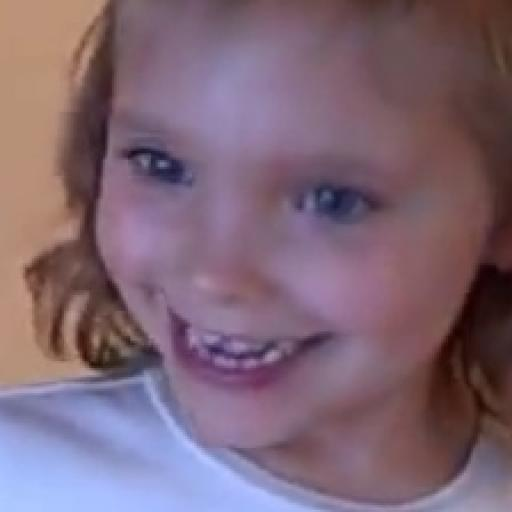Autism: (42, 0, 512, 512)
